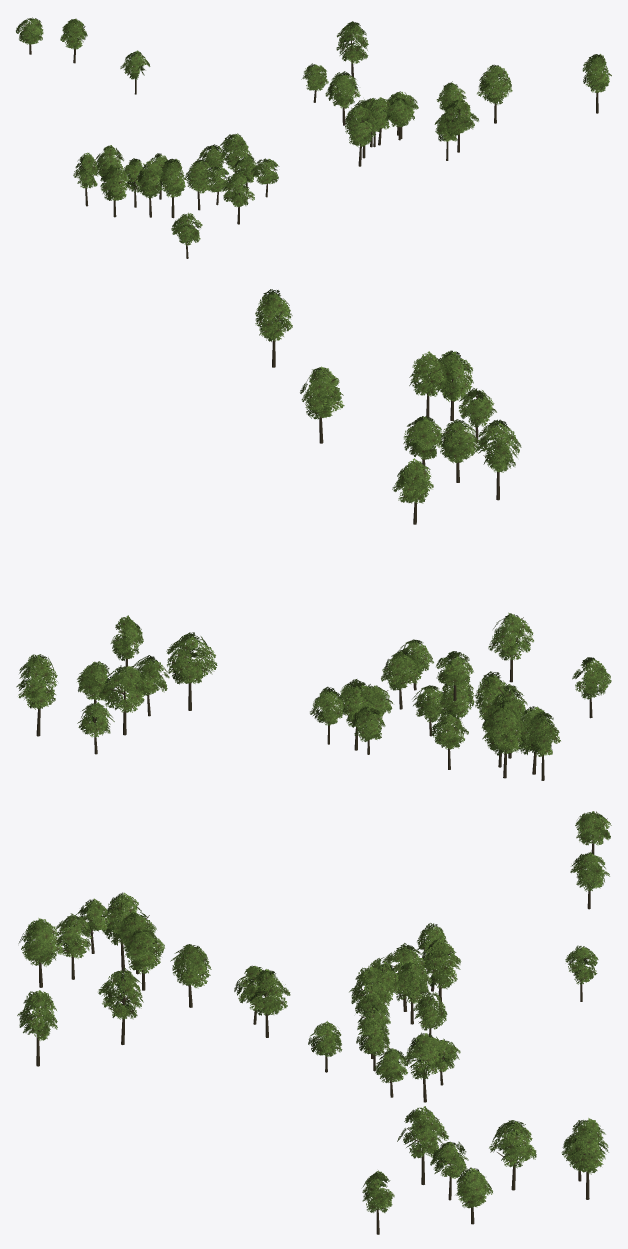
The model's file is TRB8-FOREST-CHUNK-1-1.glb.
The picture shows the model from 3 angles, top to bottom: view 1: azimuth 30°, elevation 25°; view 2: azimuth 150°, elevation 25°; view 3: azimuth 270°, elevation 25°; orthographic projection. The views are drawn at different scales.
Parts seen in each view (by area): view 1: TRB8-FOREST-CHUNK-1-1; view 2: TRB8-FOREST-CHUNK-1-1; view 3: TRB8-FOREST-CHUNK-1-1.
Part boxes in pixels (x1=…): TRB8-FOREST-CHUNK-1-1: x1=16, y1=17, x2=611, y2=258; TRB8-FOREST-CHUNK-1-1: x1=16, y1=289, x2=611, y2=780; TRB8-FOREST-CHUNK-1-1: x1=17, y1=811, x2=611, y2=1234.
Size of the model in its own units: 39.67 by 19.49 by 41.22.
Materials: 2 (1 with a texture image).
